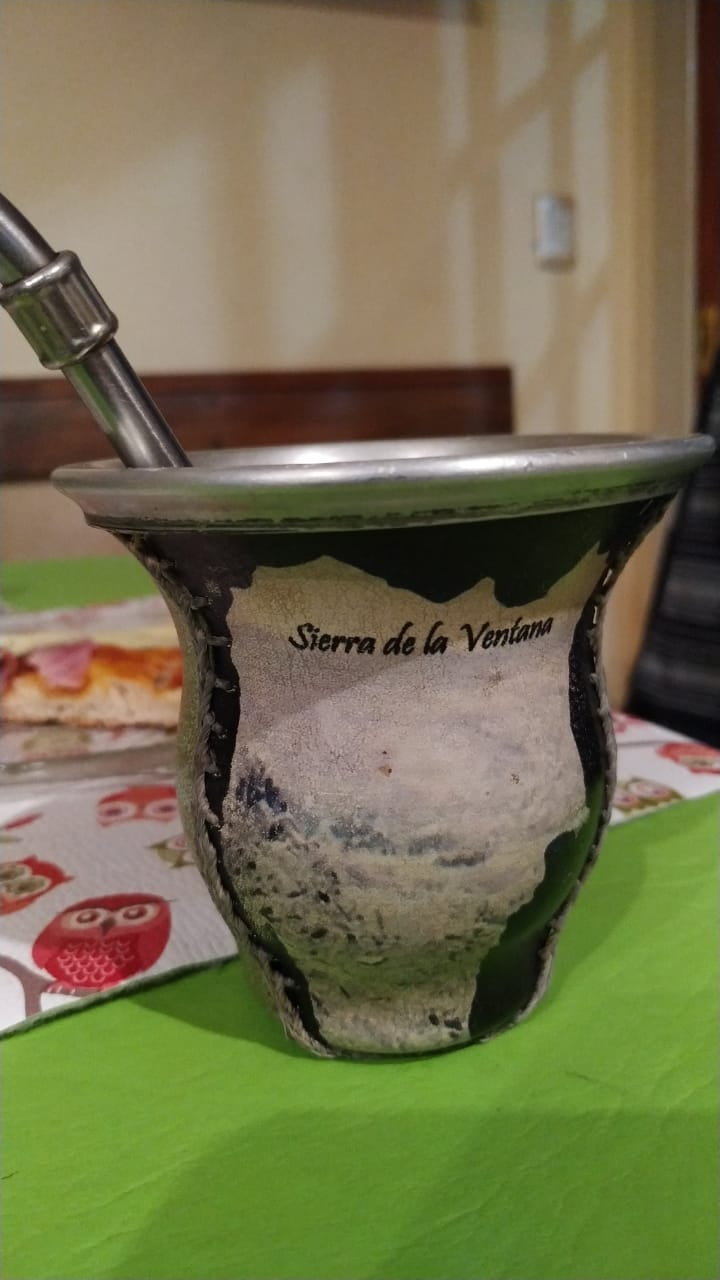mate: (44, 413, 720, 1073)
plastico: (42, 411, 718, 1071)
